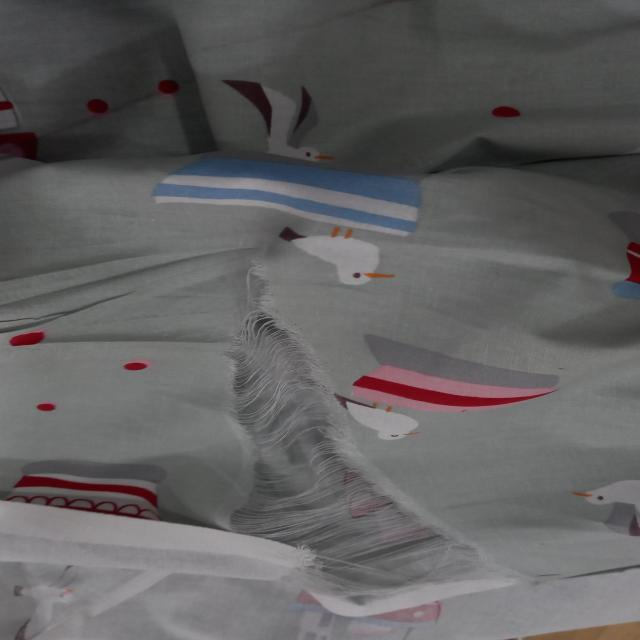cut: (215, 312, 483, 588)
